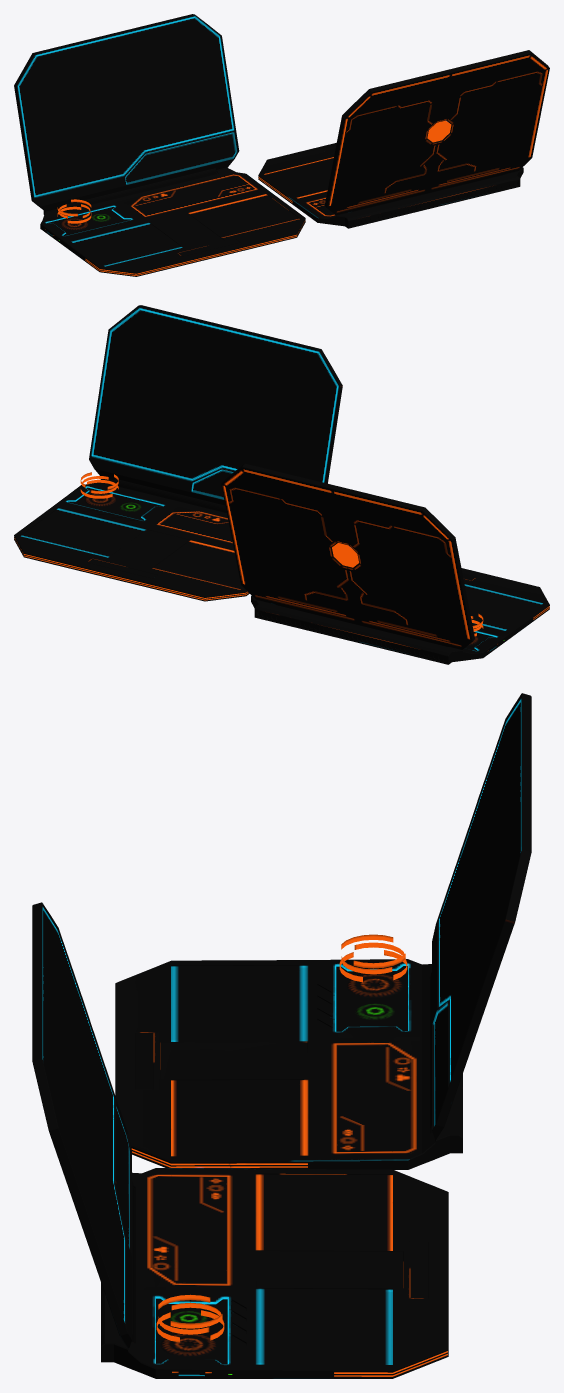
File: Lap.fbx
3 renders of one model, top to bottom at view 1: azimuth 30°, elevation 25°; view 2: azimuth 150°, elevation 25°; view 3: azimuth 270°, elevation 25°, orthographic. The views are drawn at different scales.
Visible parts, largest first — view 1: R3D_Laptop2_pPlane4 (×2), polySurface13 (×2), pCylinder15; view 2: R3D_Laptop2_pPlane4 (×2), polySurface13 (×2), pCylinder15; view 3: polySurface13 (×2), R3D_Laptop2_pPlane4 (×2), pCylinder15 (×2).
Boxes of the visible parts, x1,y1,x2,y2 form: R3D_Laptop2_pPlane4 (×2): (14, 14, 549, 215); polySurface13 (×2): (40, 143, 523, 276); pCylinder15: (57, 199, 91, 223); R3D_Laptop2_pPlane4 (×2): (89, 305, 474, 649); polySurface13 (×2): (14, 479, 549, 664); pCylinder15: (80, 472, 118, 498); polySurface13 (×2): (101, 959, 462, 1378); R3D_Laptop2_pPlane4 (×2): (32, 693, 531, 1348); pCylinder15 (×2): (156, 934, 407, 1342).
Size of the model in its own units: 13.9 by 4.72 by 7.15.
